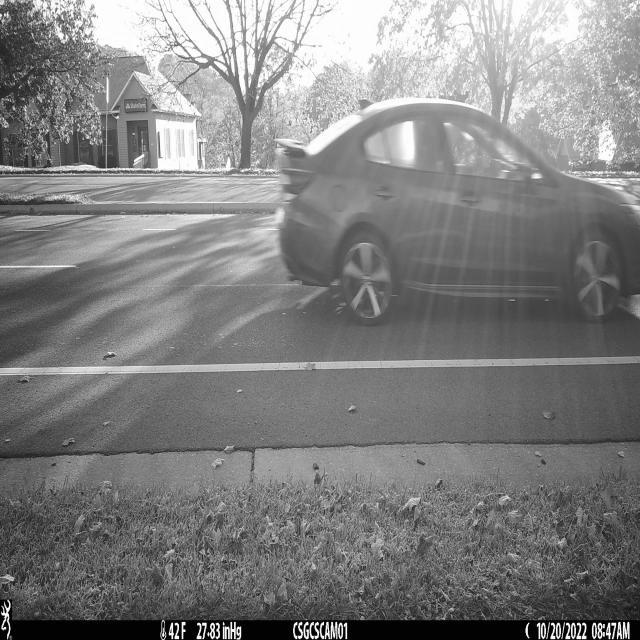Sedan: (276, 98, 640, 327)
